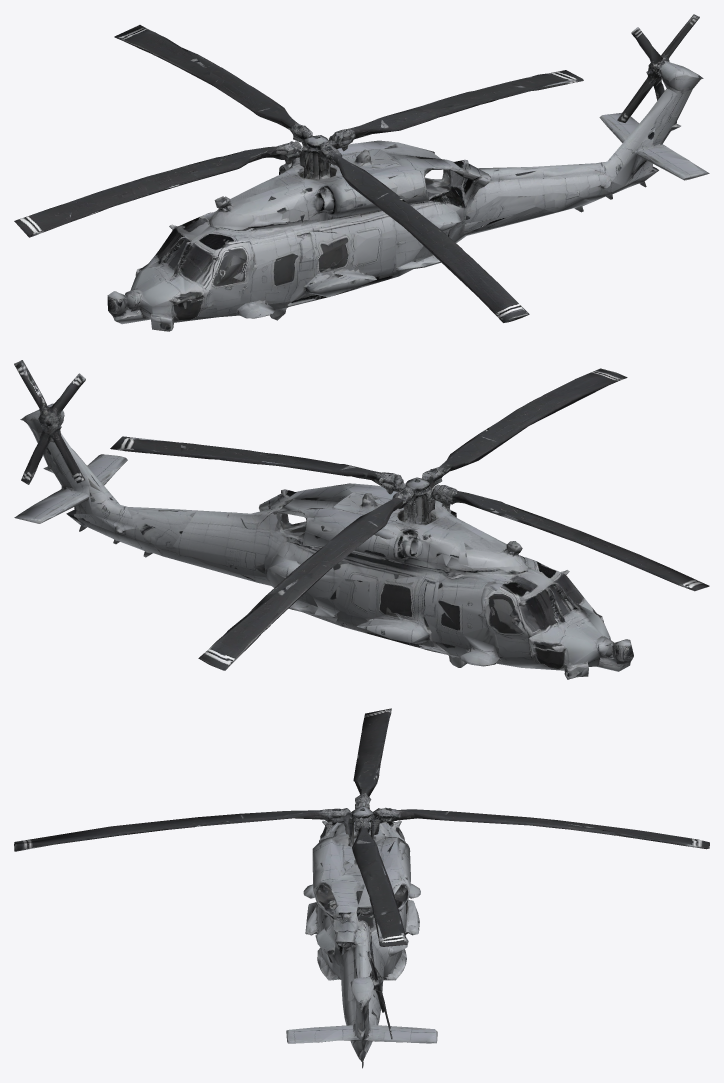
Rendered from mh-60r-seahawk-meshy6-web-lod3-v1.glb.
The picture shows the model from 3 angles, top to bottom: view 1: azimuth 30°, elevation 25°; view 2: azimuth 150°, elevation 25°; view 3: azimuth 270°, elevation 25°; orthographic projection. The views are drawn at different scales.
Bounding box in the file's own units: 1.89 × 0.5019 × 1.9.
Materials: 1 (1 with a texture image).
